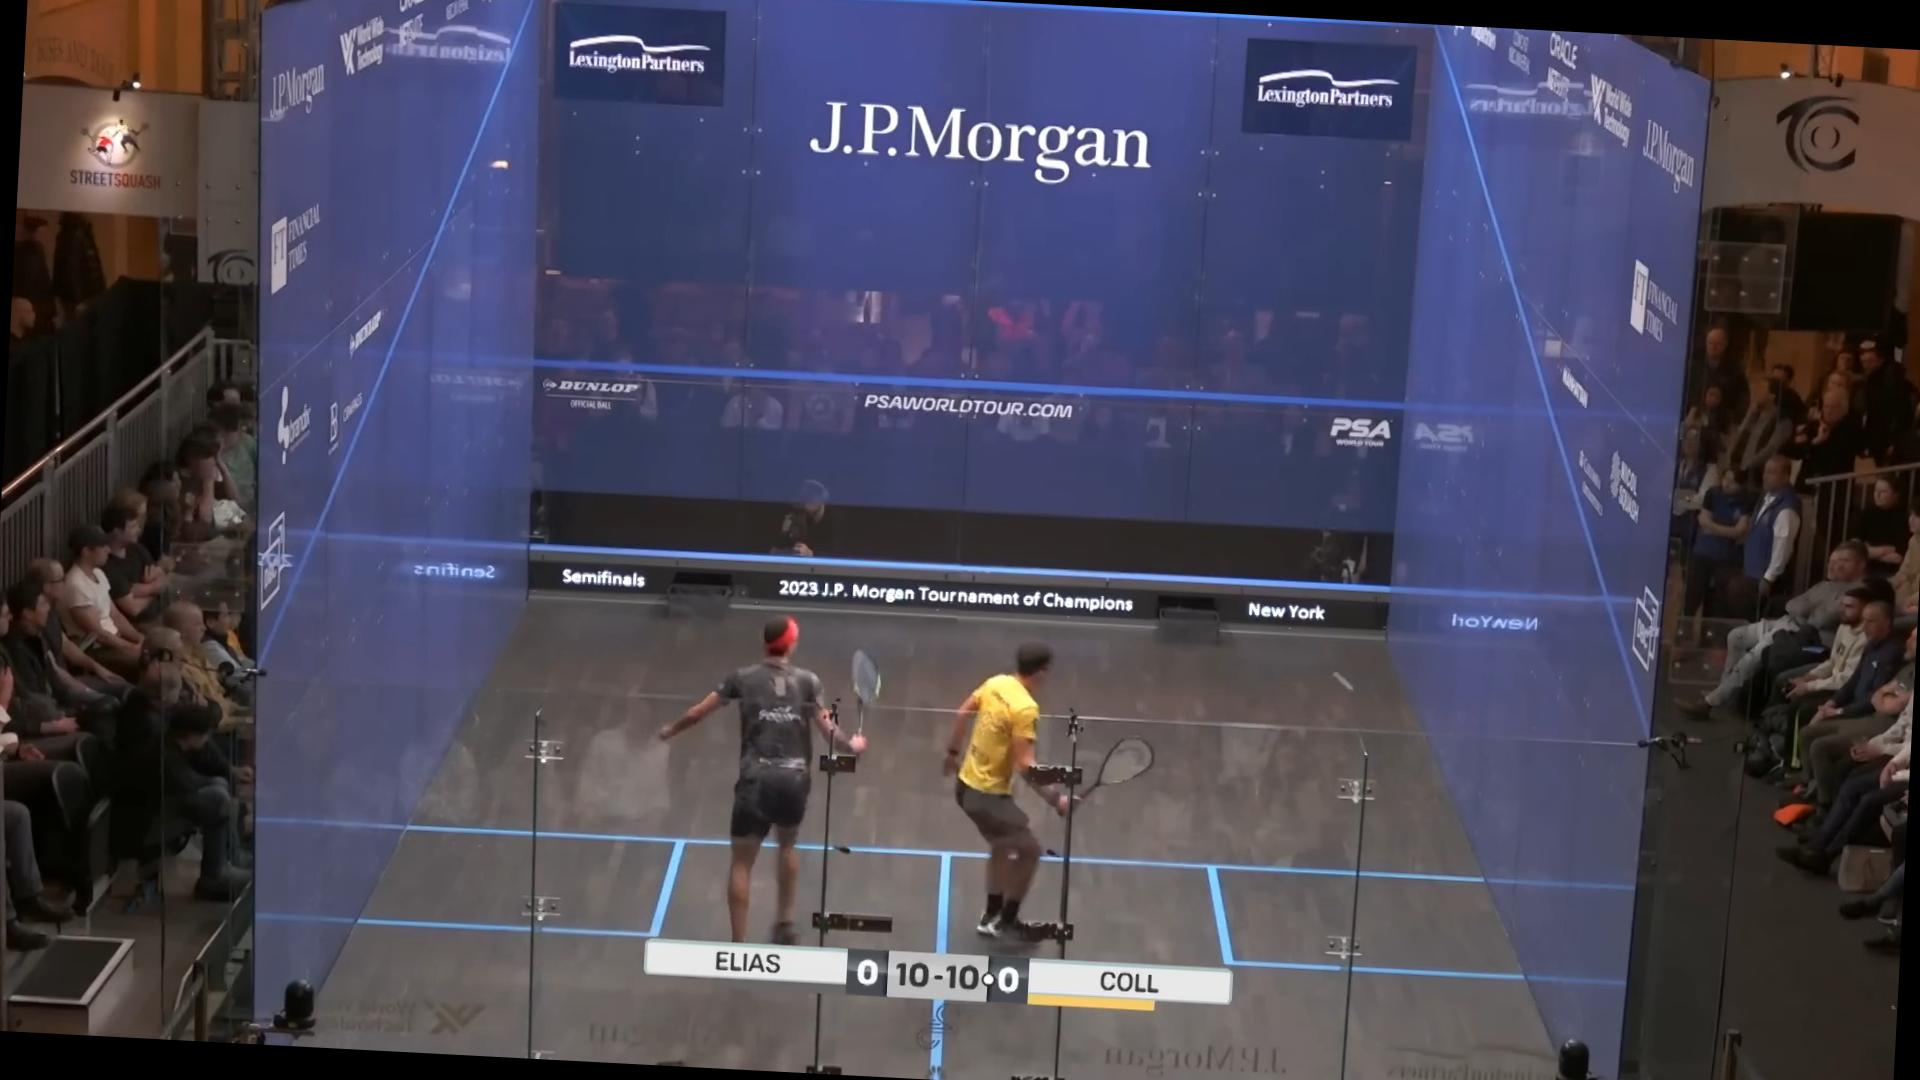Racket: (1069, 723, 1168, 803), (827, 624, 893, 728)
